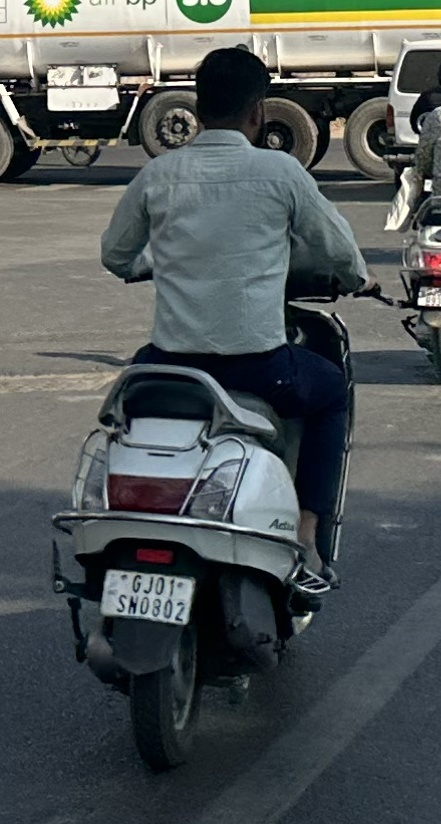BikeWithRider: (39, 39, 400, 779)
NoHelmet: (183, 41, 280, 152)
